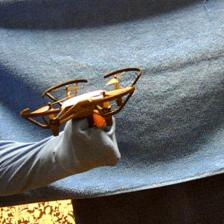drone: (19, 66, 145, 128)
